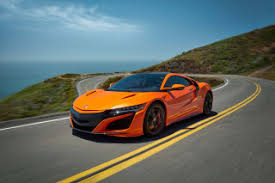car: (57, 67, 227, 146)
